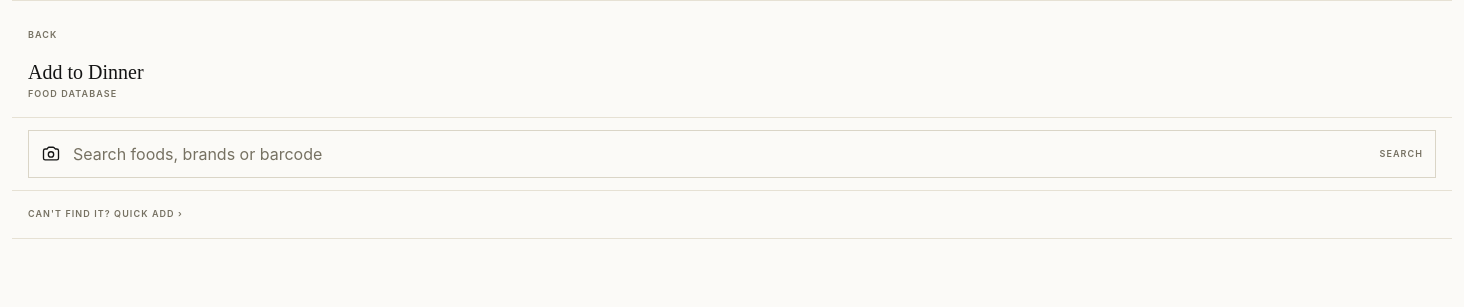
it: FoodPicker › makes an empty completed search explicit
This screenshot has width=1464, height=307.
Type "zzzzzz" into the search field at (720, 154), box x1=73 y1=142 x2=1368 y2=166
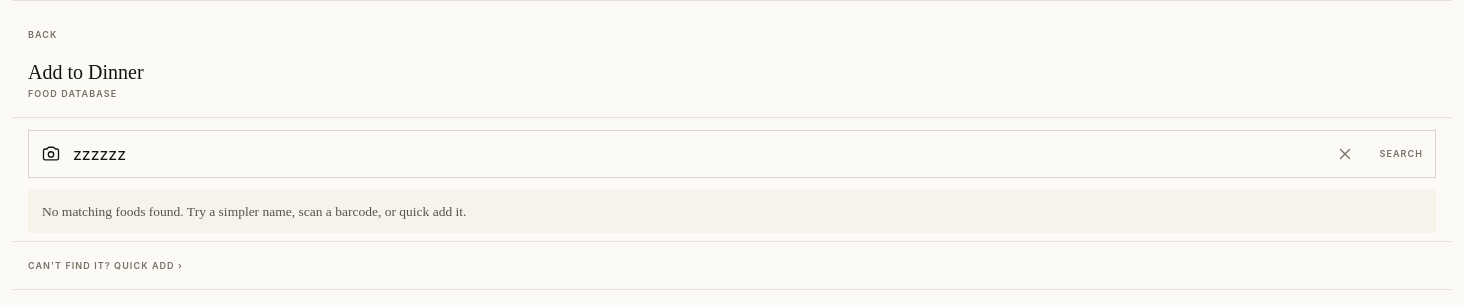
Expected: the element with test id "food-no-results" shows "No matching foods found", x1=42 y1=204 x2=466 y2=218
